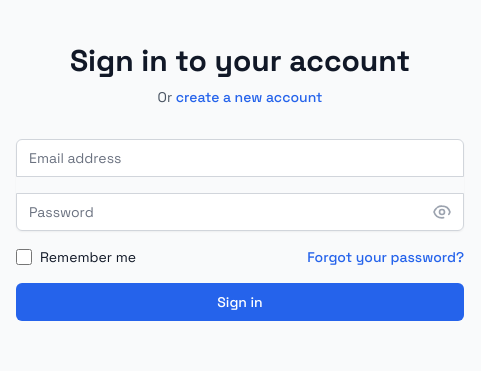
LoginPage › shows fallback error when login fails without server message
Type "bad@example.com" into the field with placeholder "Email address" at (240, 158), box [16,139,464,177]
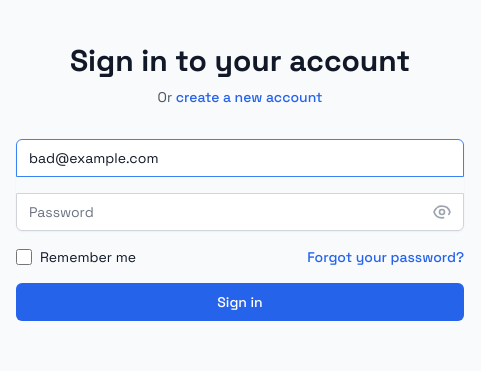
Type "wrong" into the password field with placeholder "Password" at (240, 212), box [16,193,464,231]
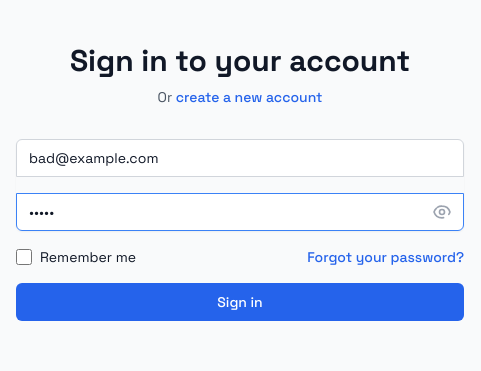
Click the button "Sign in" at (240, 302), box [16,283,464,321]
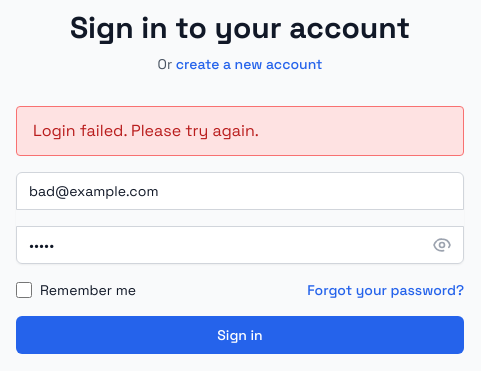
expect the text "Login failed. Please try again." is shown: met, box [16,106,464,156]
